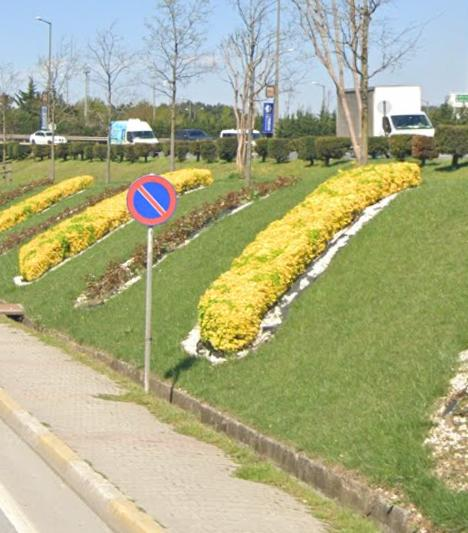nopark: (128, 174, 176, 225)
